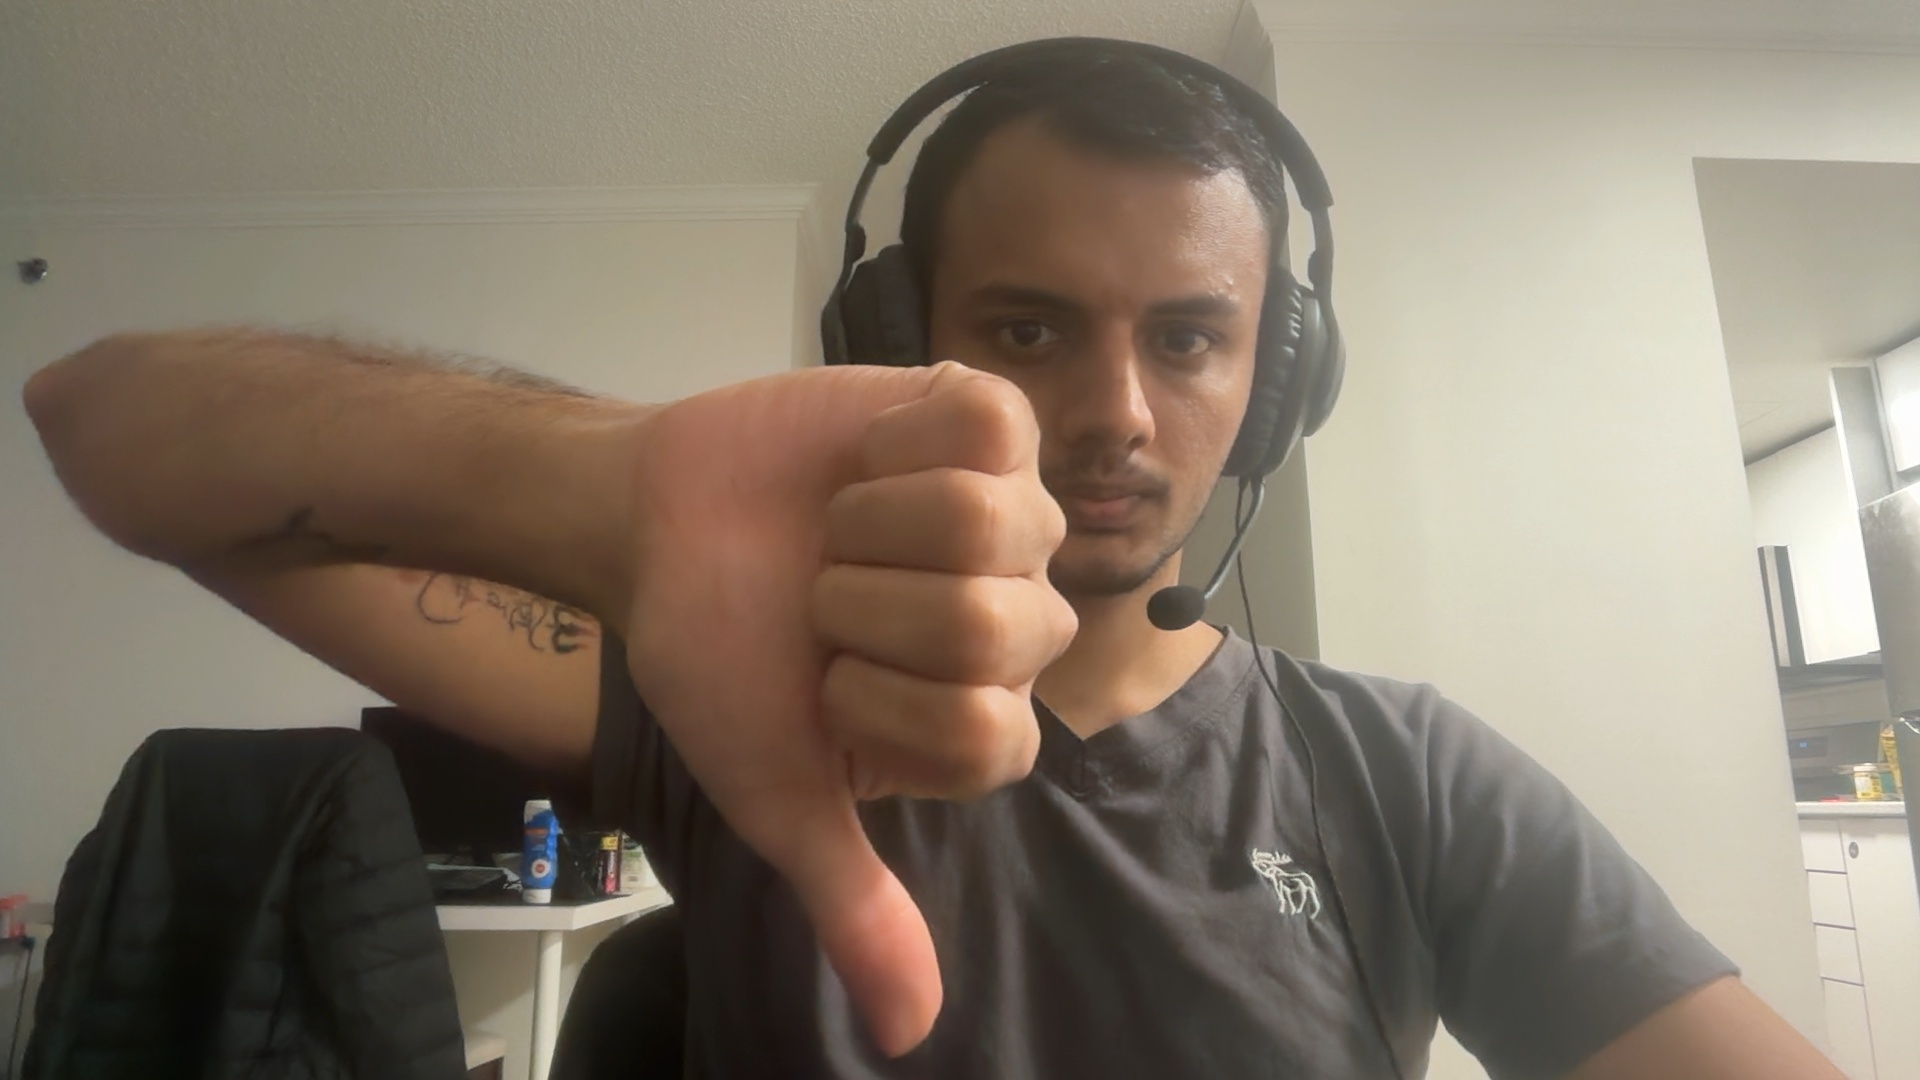thumbsdown: (625, 359, 1079, 1060)
